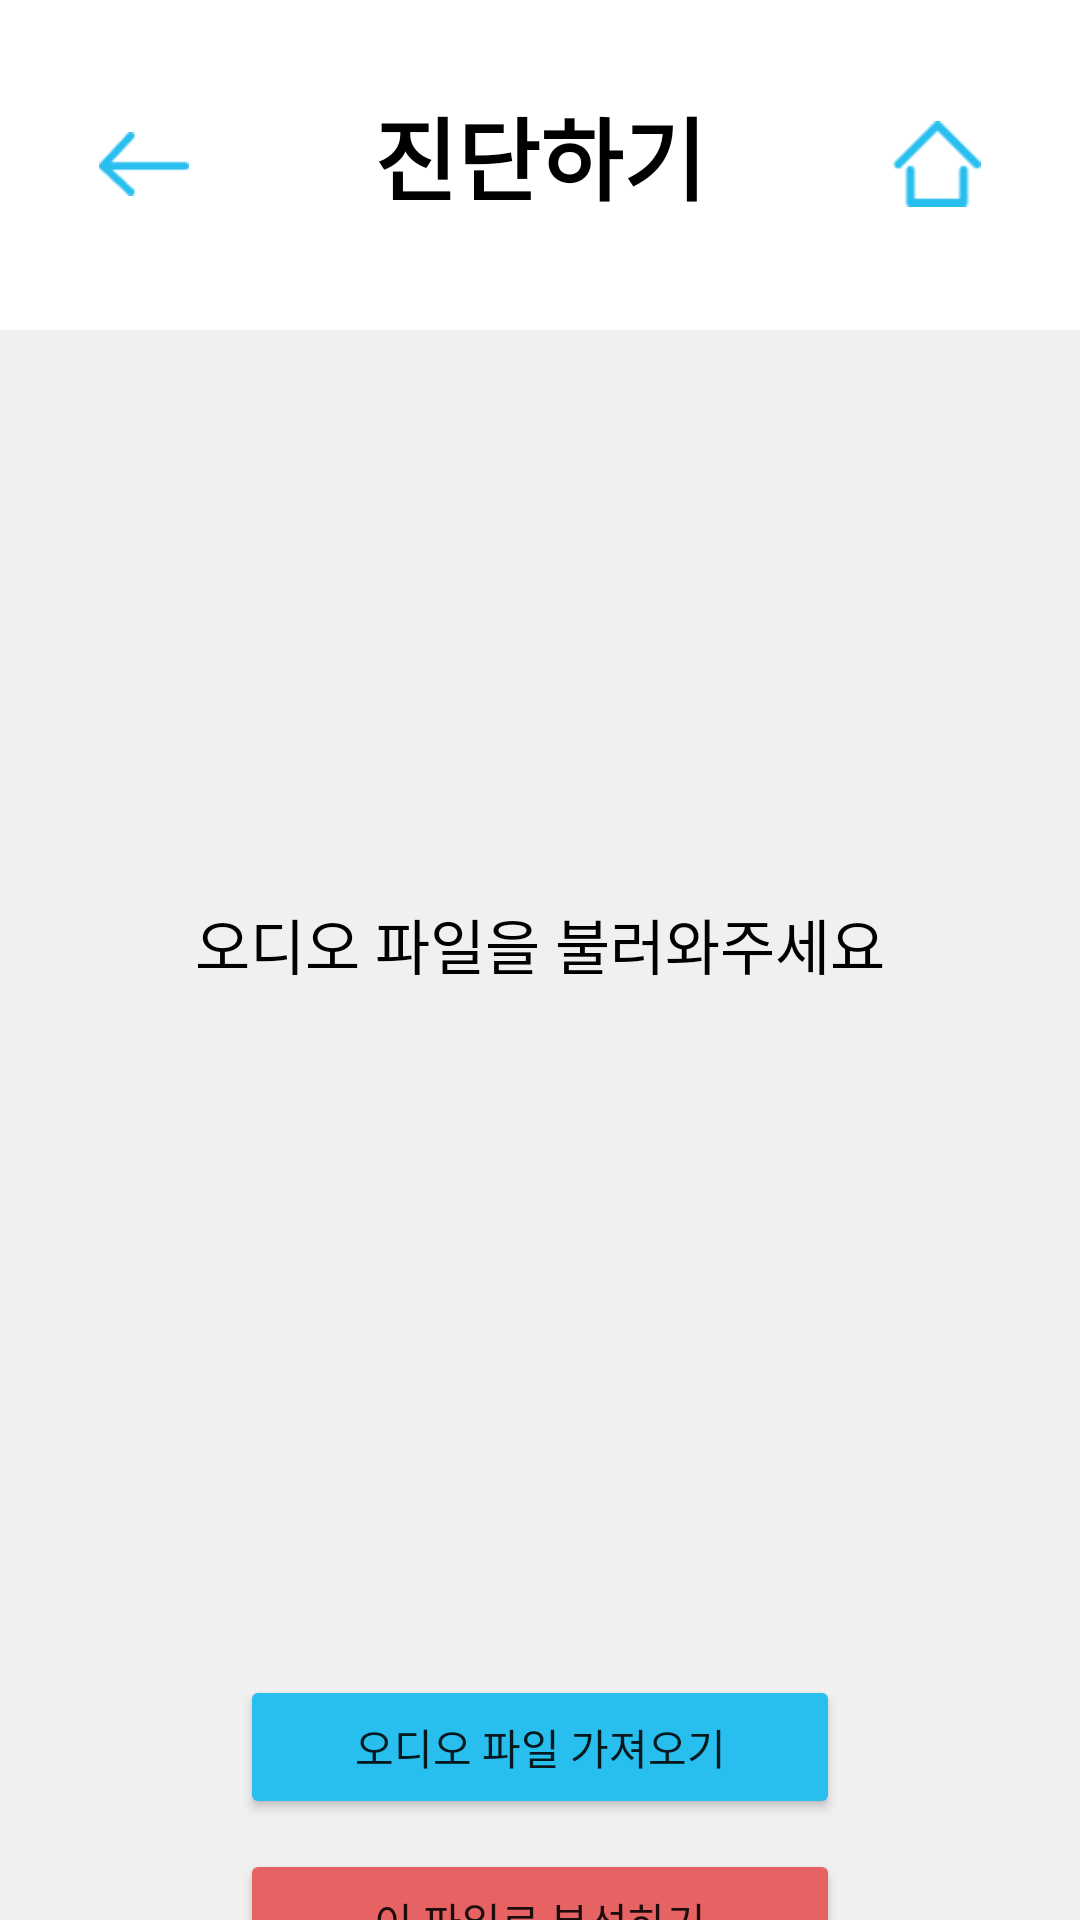

Where to tap for icons on this 1080 × 1920 app screen, as point (x, y):
backbtn: point (144, 164)
homebtn: point (937, 164)
